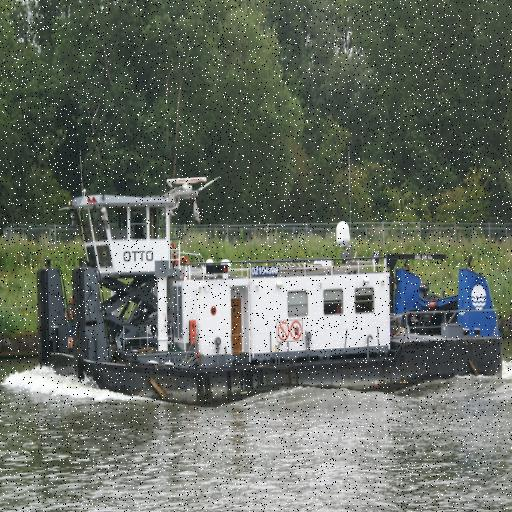tugboat: (35, 146, 510, 423)
